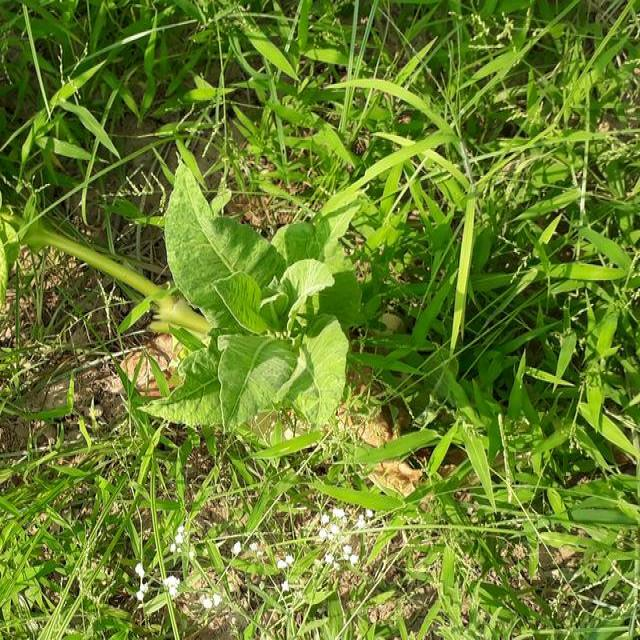crop: (155, 171, 370, 455)
